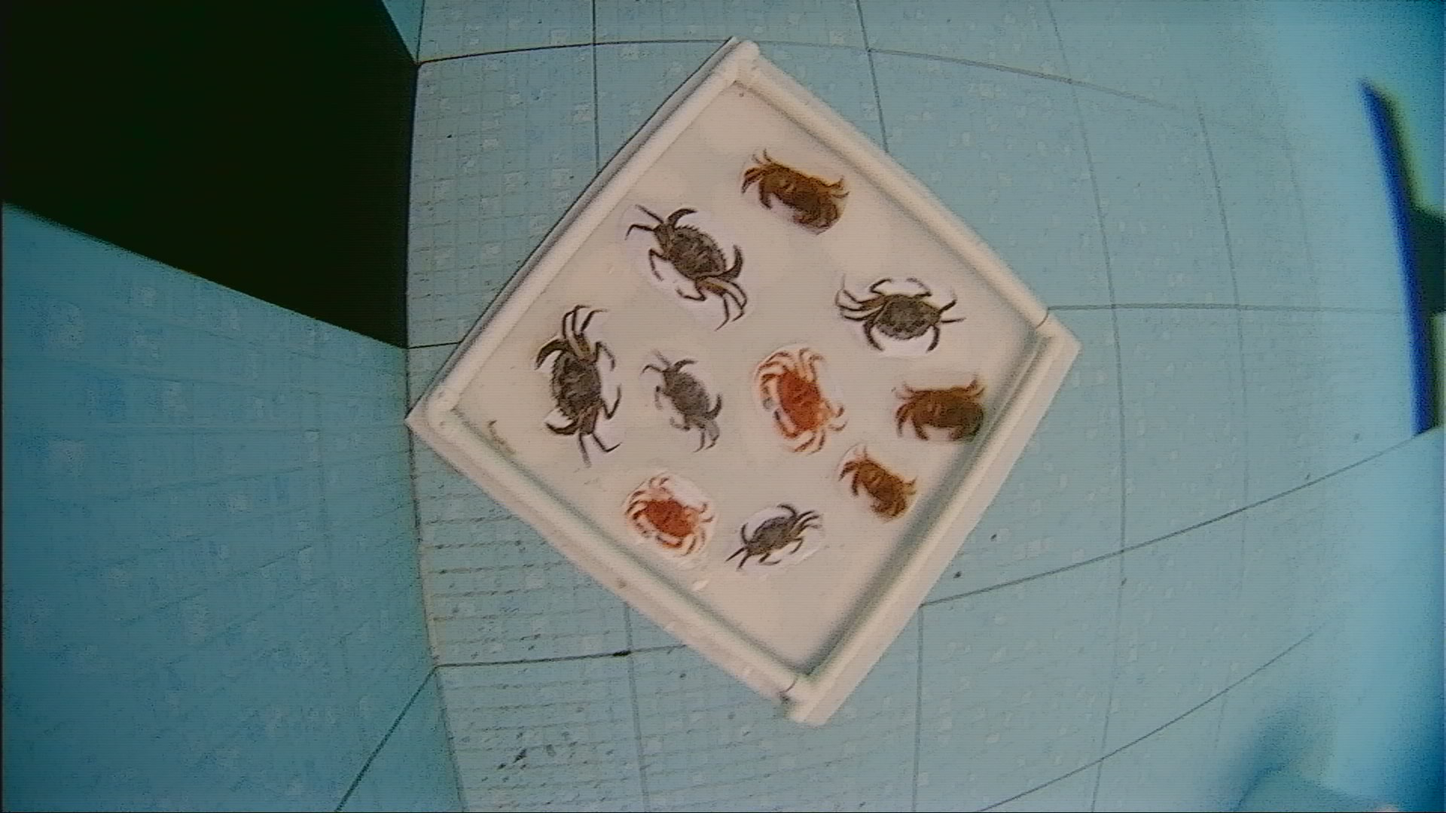GreenCrab: (625, 207, 746, 329), (535, 305, 621, 465), (835, 278, 966, 352), (644, 352, 721, 450), (728, 504, 817, 569)
